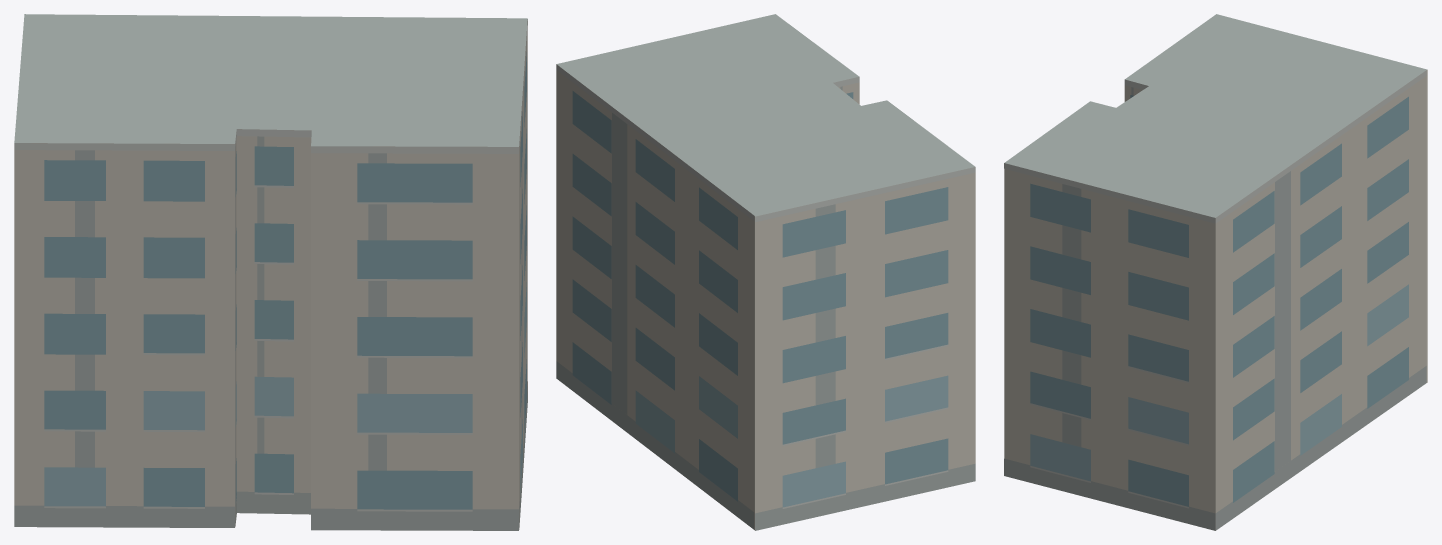
Rendered from survey-upis-32954532.glb.
3 renders of one model, left to right at view 1: azimuth 30°, elevation 25°; view 2: azimuth 150°, elevation 25°; view 3: azimuth 270°, elevation 25°, orthographic. The views are drawn at different scales.
Visible parts, largest first — view 1: survey-upis-32954532.tmp; view 2: survey-upis-32954532.tmp; view 3: survey-upis-32954532.tmp.
Part boxes in pixels (x1,y1,x2,y2): survey-upis-32954532.tmp: (14, 14, 527, 530); survey-upis-32954532.tmp: (556, 14, 975, 530); survey-upis-32954532.tmp: (1004, 14, 1427, 530).
Size of the model in its own units: 18.6 by 13.3 by 16.32.
